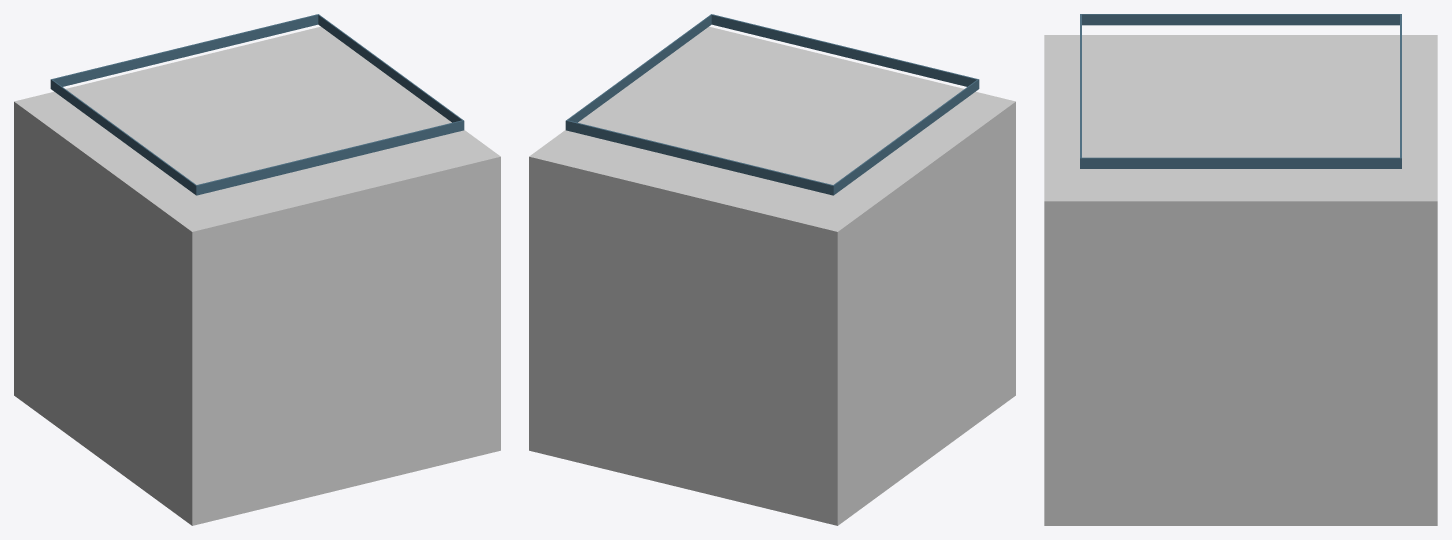
The model's file is studio-floor.glb.
3 views of the same model, side by side, from view 1: azimuth 30°, elevation 25°; view 2: azimuth 150°, elevation 25°; view 3: azimuth 270°, elevation 25° (orthographic). The views are drawn at different scales.
Visible parts, largest first — view 1: beret/surface; view 2: beret/surface; view 3: beret/surface.
Boxes of the visible parts, x1,y1,x2,y2 form: beret/surface: (14,14,500,525); beret/surface: (529,14,1015,525); beret/surface: (1044,14,1437,525).
Bounding box in the file's own units: 1 × 1 × 1.
